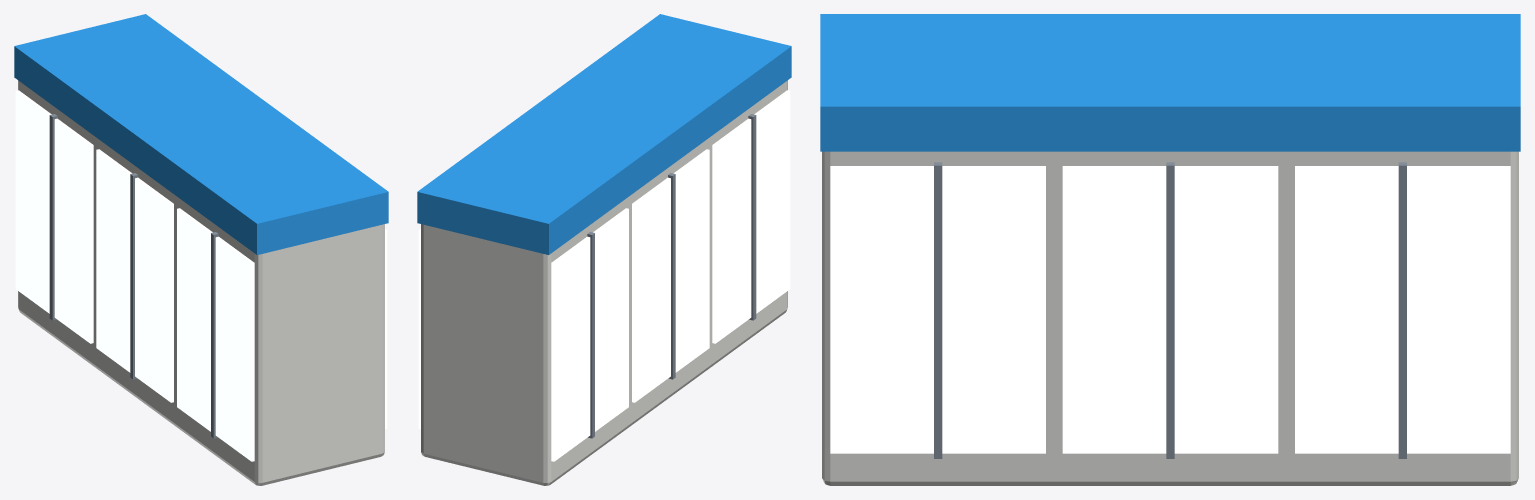
The model's file is freezer.glb.
3 views of the same model, side by side, from view 1: azimuth 30°, elevation 25°; view 2: azimuth 150°, elevation 25°; view 3: azimuth 270°, elevation 25° (orthographic). The views are drawn at different scales.
Parts seen in each view (by area): view 1: freezer; view 2: freezer; view 3: freezer.
Boxes of the visible parts, bbox=[...] form: freezer: bbox=[14, 14, 388, 485]; freezer: bbox=[417, 14, 791, 485]; freezer: bbox=[820, 14, 1520, 485].
Bounding box in the file's own units: 1.4 × 2.55 × 4.22.
